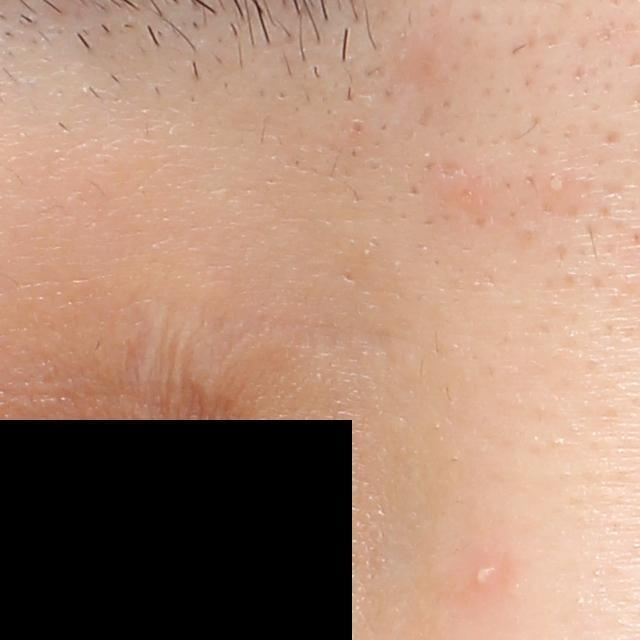pustule: (469, 562, 504, 589)
